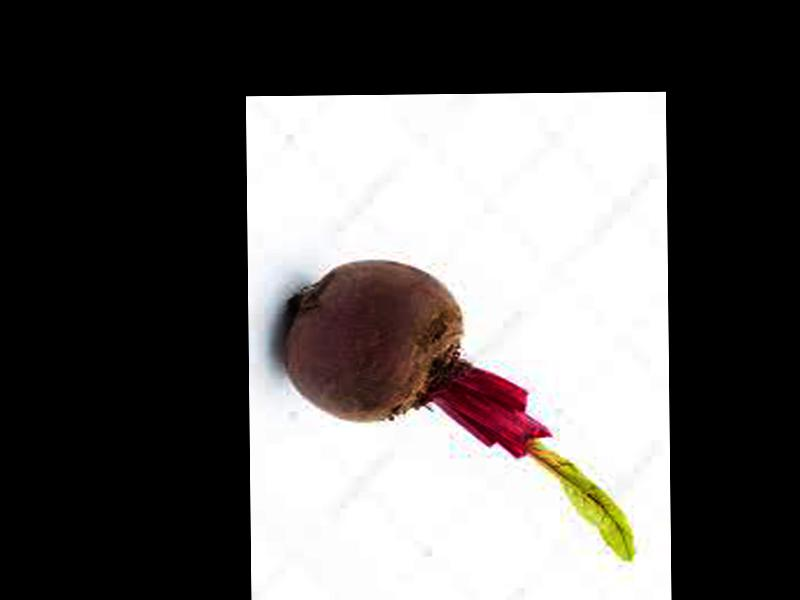Beet: (284, 256, 633, 561)
